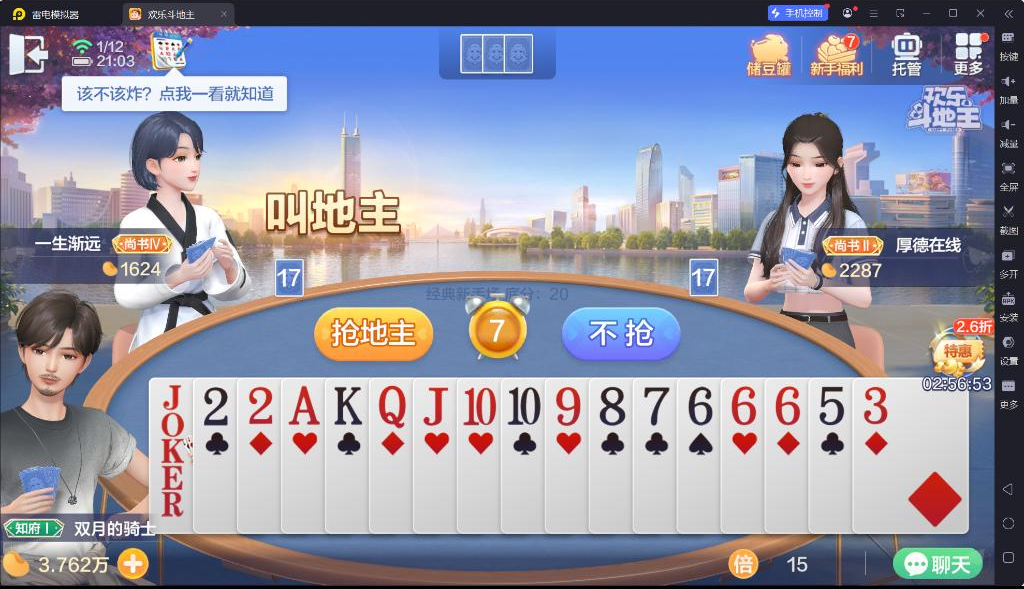A: (288, 382, 322, 428)
J: (420, 382, 452, 428)
JOKER: (156, 381, 188, 466)
K: (329, 382, 364, 428)
Q: (373, 380, 409, 429)
eight: (593, 381, 629, 427)
five: (813, 380, 848, 428)
nine: (550, 382, 584, 428)
seven: (638, 382, 672, 428)
six: (682, 380, 716, 427), (725, 380, 759, 427), (772, 380, 802, 427)
ten: (460, 382, 500, 428), (506, 381, 543, 427)
three: (858, 382, 892, 426)
two: (199, 384, 234, 431), (243, 382, 277, 428)
